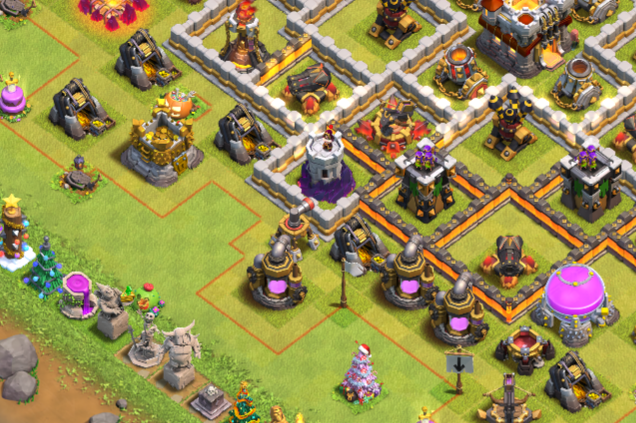elixir_colector: (237, 233, 314, 325), (381, 234, 441, 325), (433, 276, 490, 352)
gold_mine: (539, 343, 612, 419), (109, 26, 182, 93), (44, 78, 116, 145), (322, 207, 389, 279), (210, 101, 279, 166)
